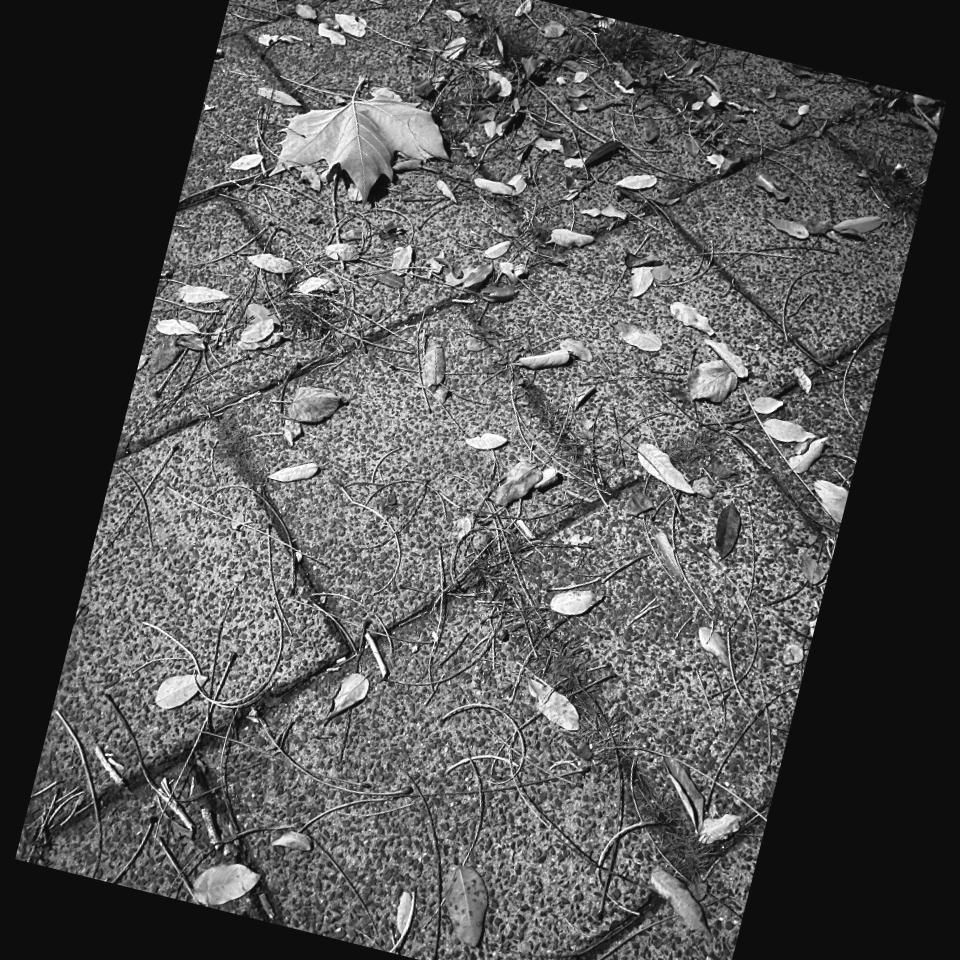weed: (470, 567, 716, 885), (467, 320, 607, 474), (584, 27, 727, 150), (210, 412, 274, 503), (474, 14, 546, 80), (287, 290, 341, 337)
